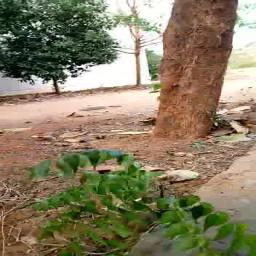Azadiractha Indica: (18, 138, 255, 256)
